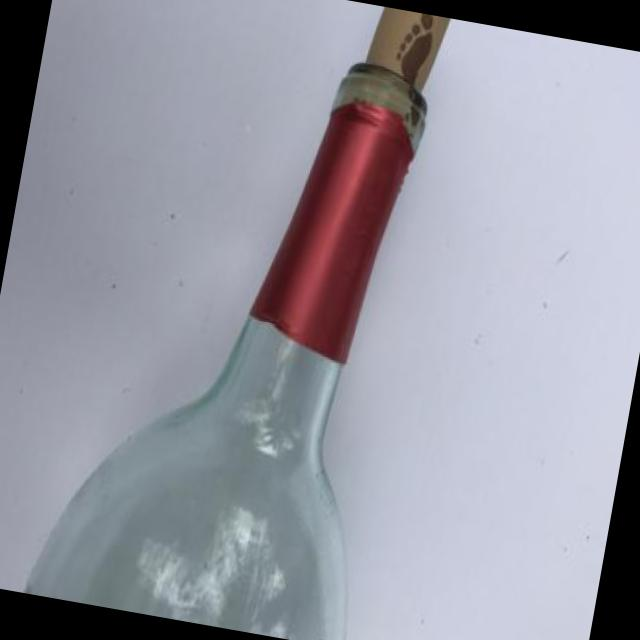thuy_tinh: (24, 317, 345, 640)
